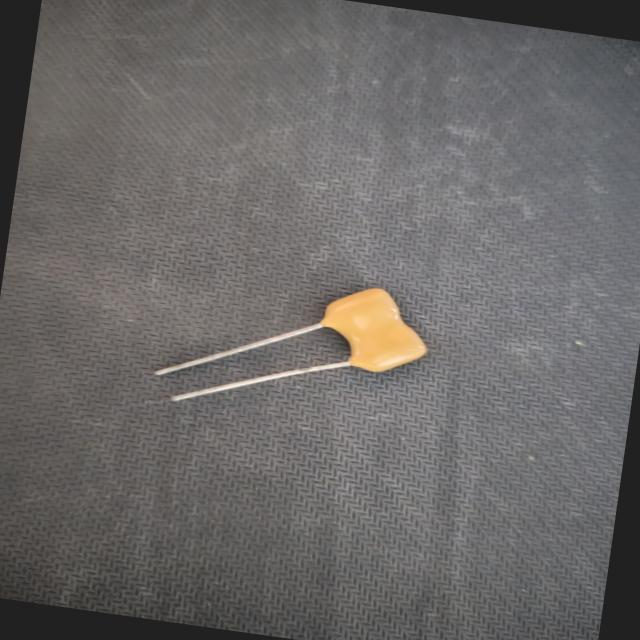resistor: (138, 244, 456, 450)
